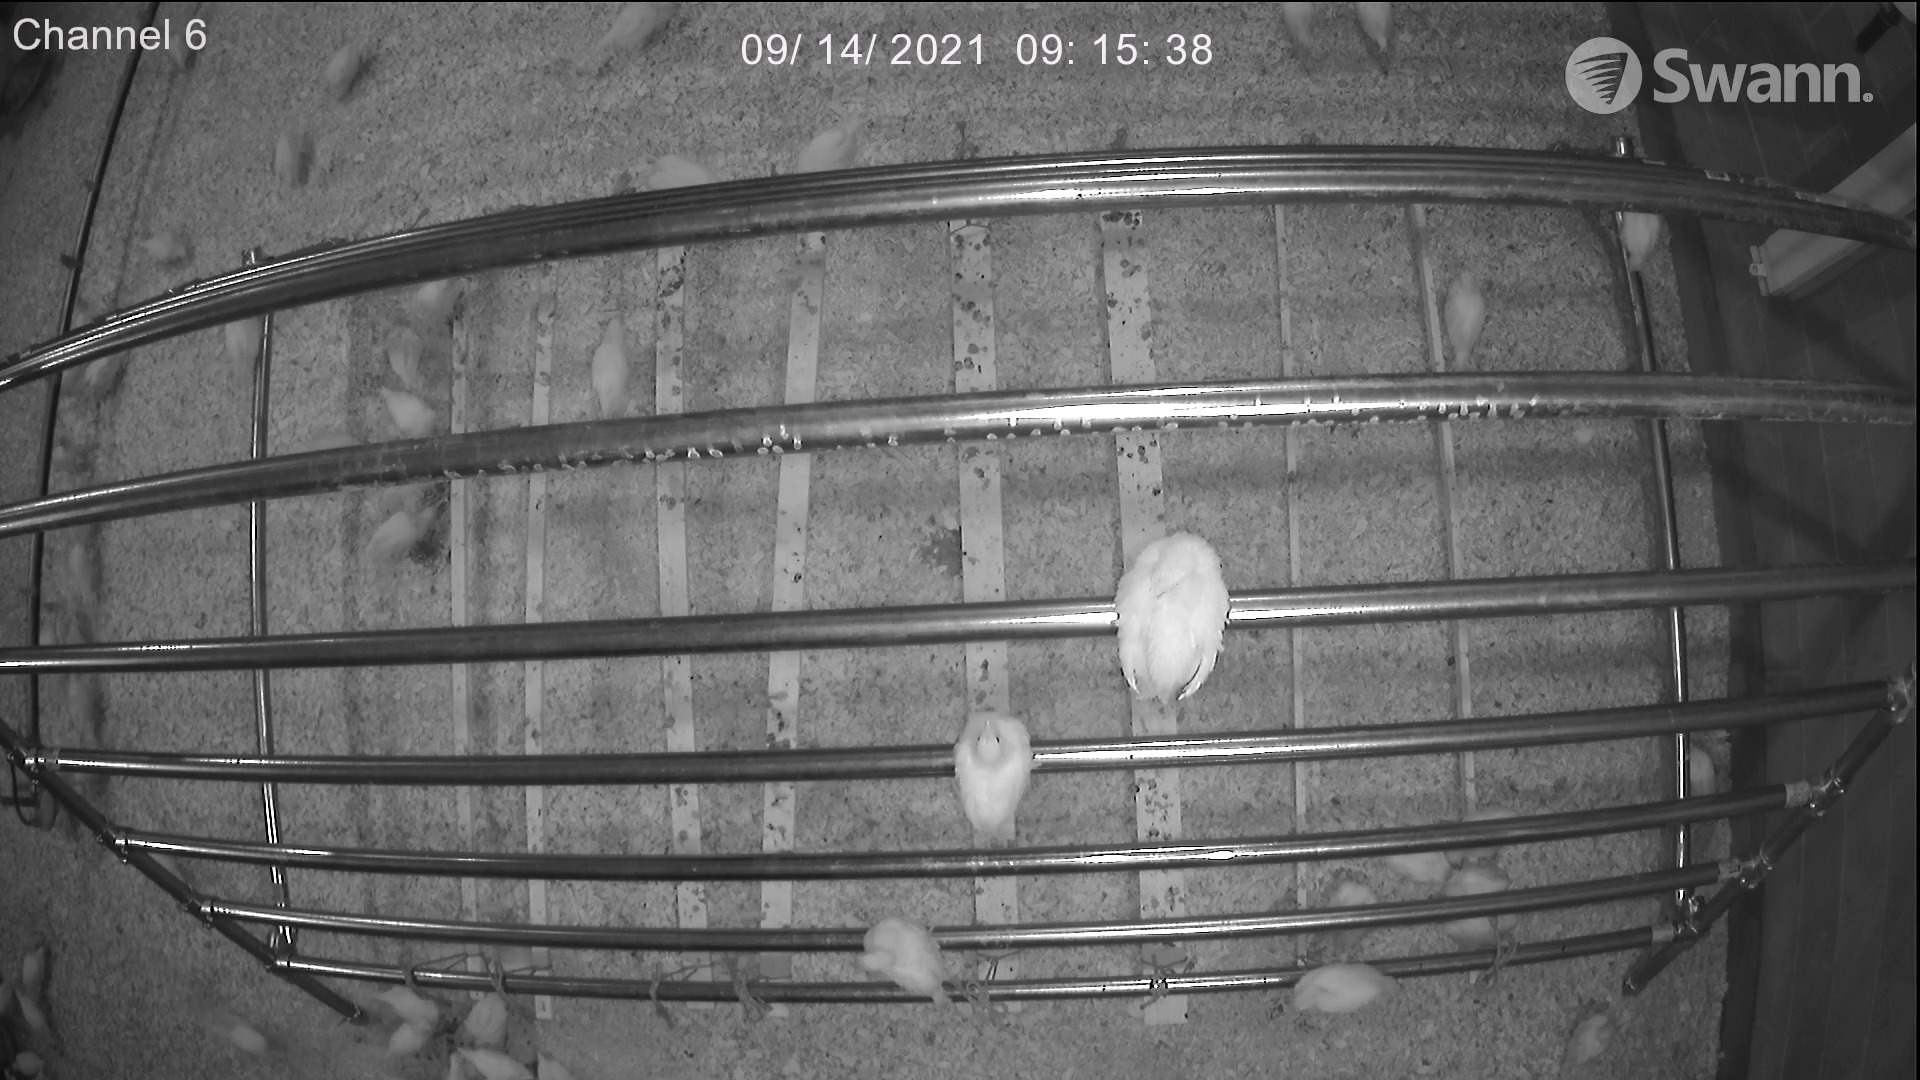Perching: (1083, 502, 1232, 712), (943, 698, 1040, 845), (848, 916, 969, 1021), (1271, 949, 1402, 1025), (1607, 204, 1672, 272), (214, 320, 284, 371)
